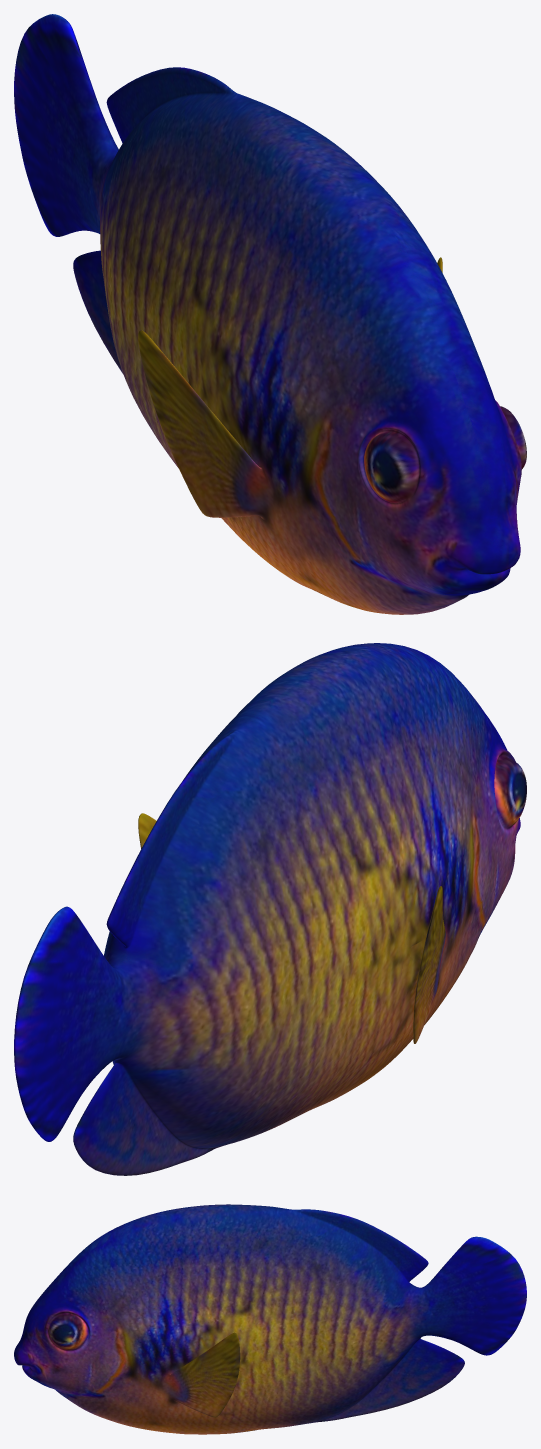
File: angelFish.obj
3 views of the same model, one above another, from view 1: azimuth 30°, elevation 25°; view 2: azimuth 150°, elevation 25°; view 3: azimuth 270°, elevation 25° (orthographic). The views are drawn at different scales.
Visible parts, largest first — view 1: angelFish; view 2: angelFish; view 3: angelFish.
Part boxes in pixels (x1=…): angelFish: x1=14, y1=14, x2=526, y2=614; angelFish: x1=14, y1=643, x2=526, y2=1175; angelFish: x1=14, y1=1204, x2=526, y2=1434.
Size of the model in its own units: 0.369 by 0.496 by 1.03.
Materials: 1 (1 with a texture image).
